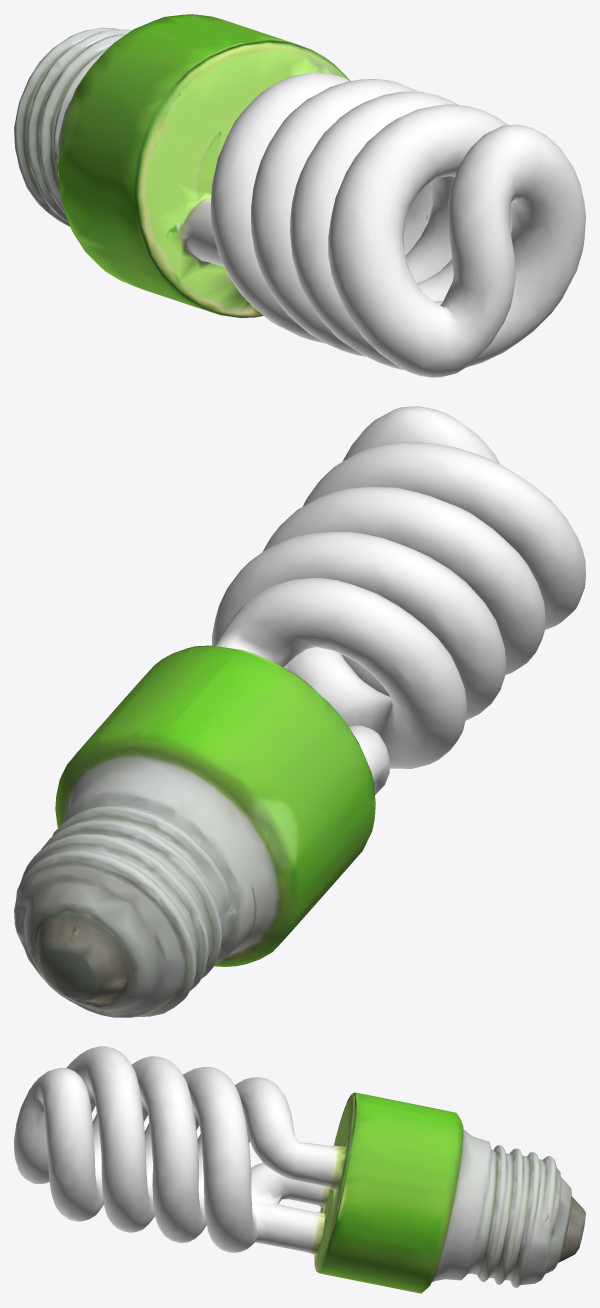
File: europio.fbx
The picture shows the model from 3 angles, top to bottom: view 1: azimuth 30°, elevation 25°; view 2: azimuth 150°, elevation 25°; view 3: azimuth 270°, elevation 25°; orthographic projection. The views are drawn at different scales.
Parts seen in each view (by area): view 1: Mesh_0.005; view 2: Mesh_0.005; view 3: Mesh_0.005.
Boxes of the visible parts, <box> form: Mesh_0.005: <box>14,14,585,377</box>; Mesh_0.005: <box>14,406,585,1017</box>; Mesh_0.005: <box>14,1046,585,1293</box>.
Bounding box in the file's own units: 0.1554 × 0.2116 × 0.4808.
1 material, 1 textured.
